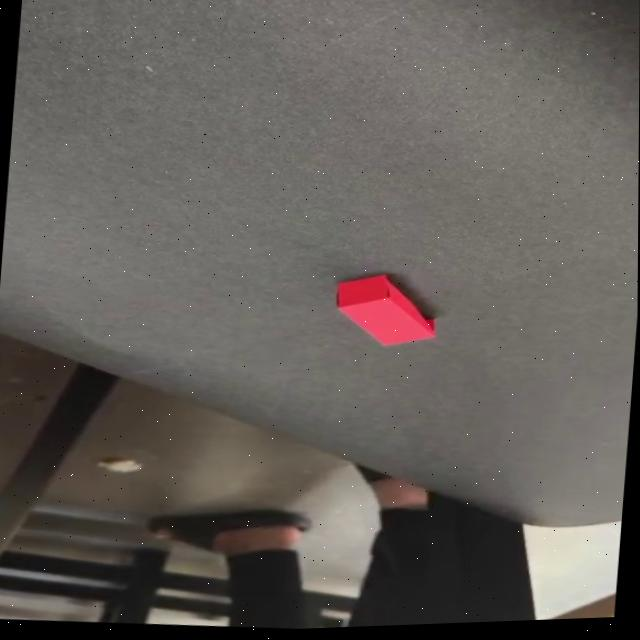red block: (330, 269, 440, 352)
